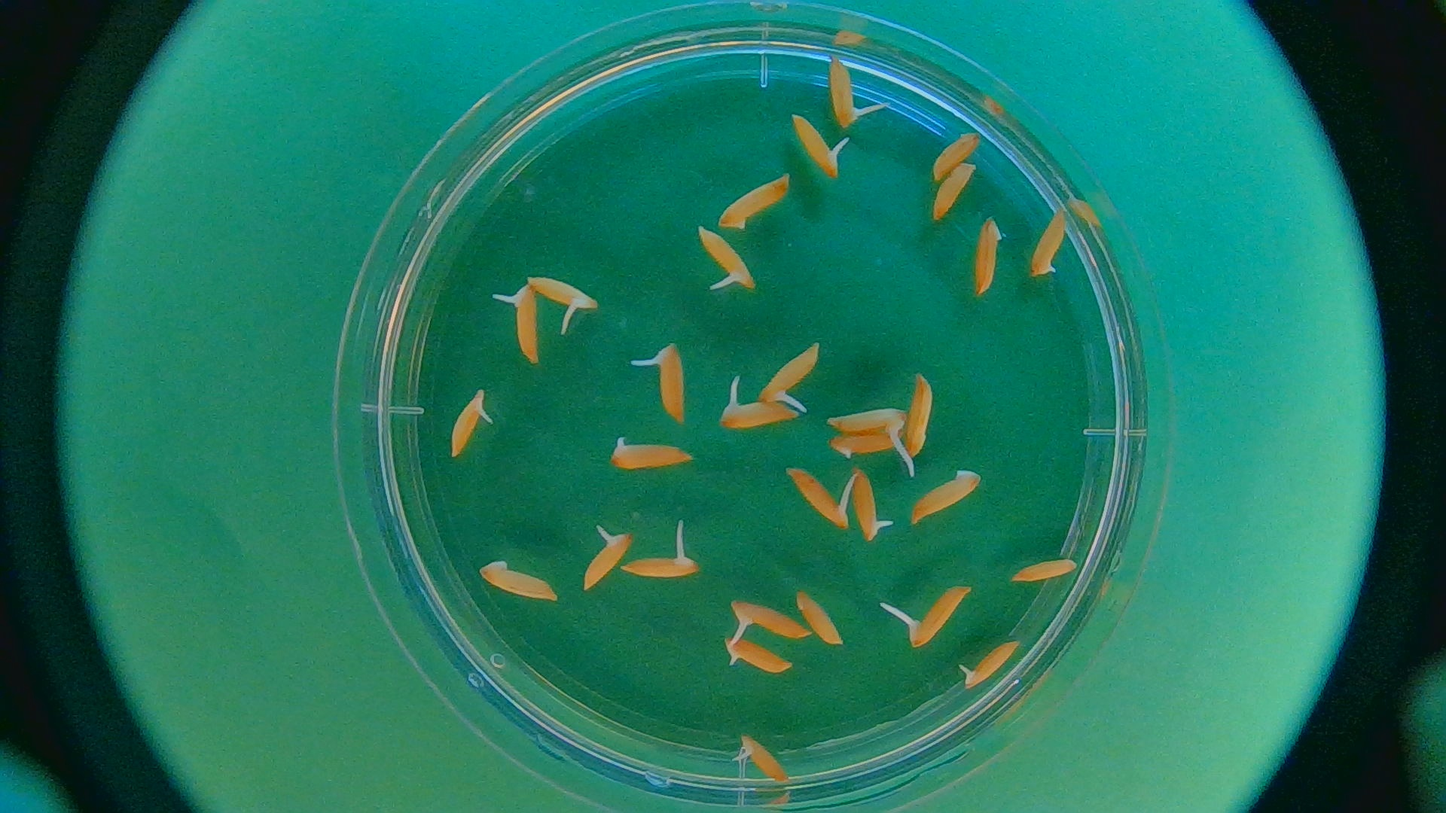no: (717, 172, 798, 231), (909, 466, 979, 524), (926, 160, 983, 225), (479, 561, 560, 602), (815, 431, 913, 461), (1030, 207, 1069, 279), (927, 130, 981, 181), (972, 215, 1005, 298), (798, 590, 845, 647), (904, 372, 935, 458), (1008, 556, 1078, 585)
yes: (755, 343, 822, 406), (786, 469, 857, 527), (907, 583, 969, 649), (695, 226, 757, 291), (526, 270, 599, 317), (792, 111, 842, 179), (728, 599, 805, 642), (582, 528, 631, 592), (652, 343, 688, 424), (719, 395, 798, 430), (607, 438, 686, 473), (826, 404, 907, 437), (740, 732, 789, 786), (961, 640, 1017, 687), (448, 391, 488, 454), (726, 638, 795, 674), (514, 282, 544, 361), (618, 551, 696, 581), (827, 58, 859, 130), (851, 473, 883, 543)
